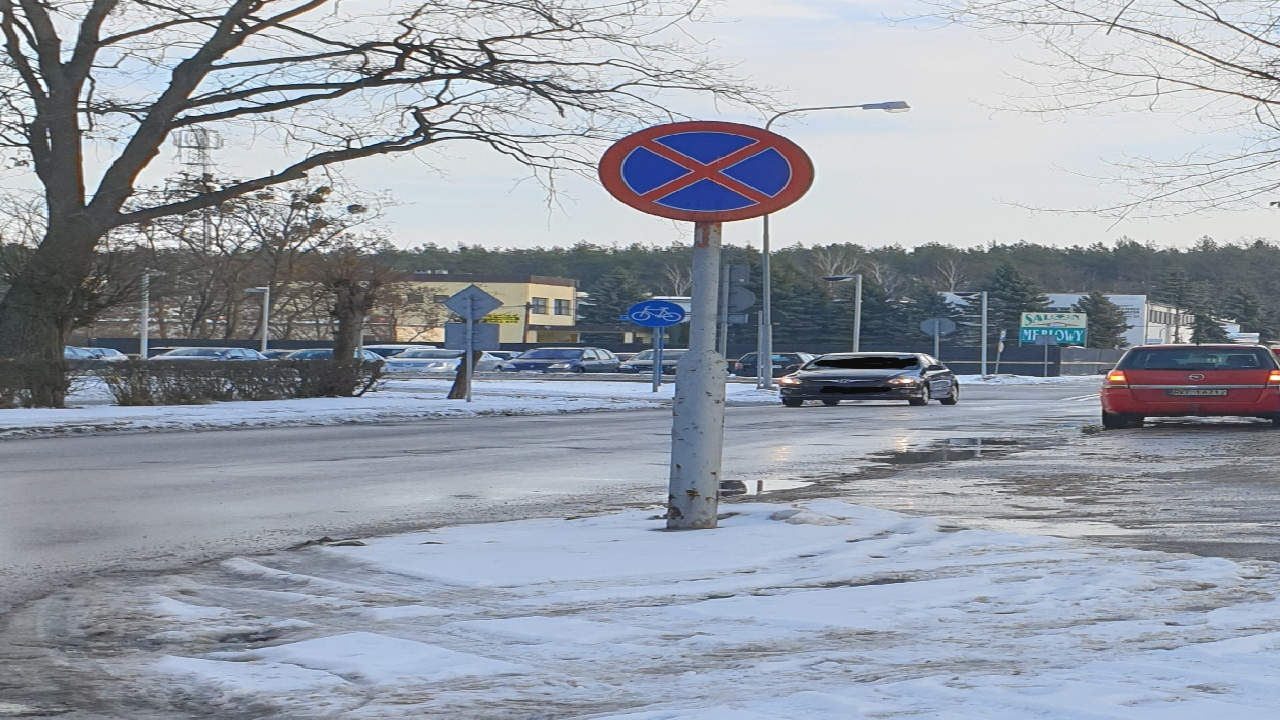B35: (591, 110, 818, 218)
